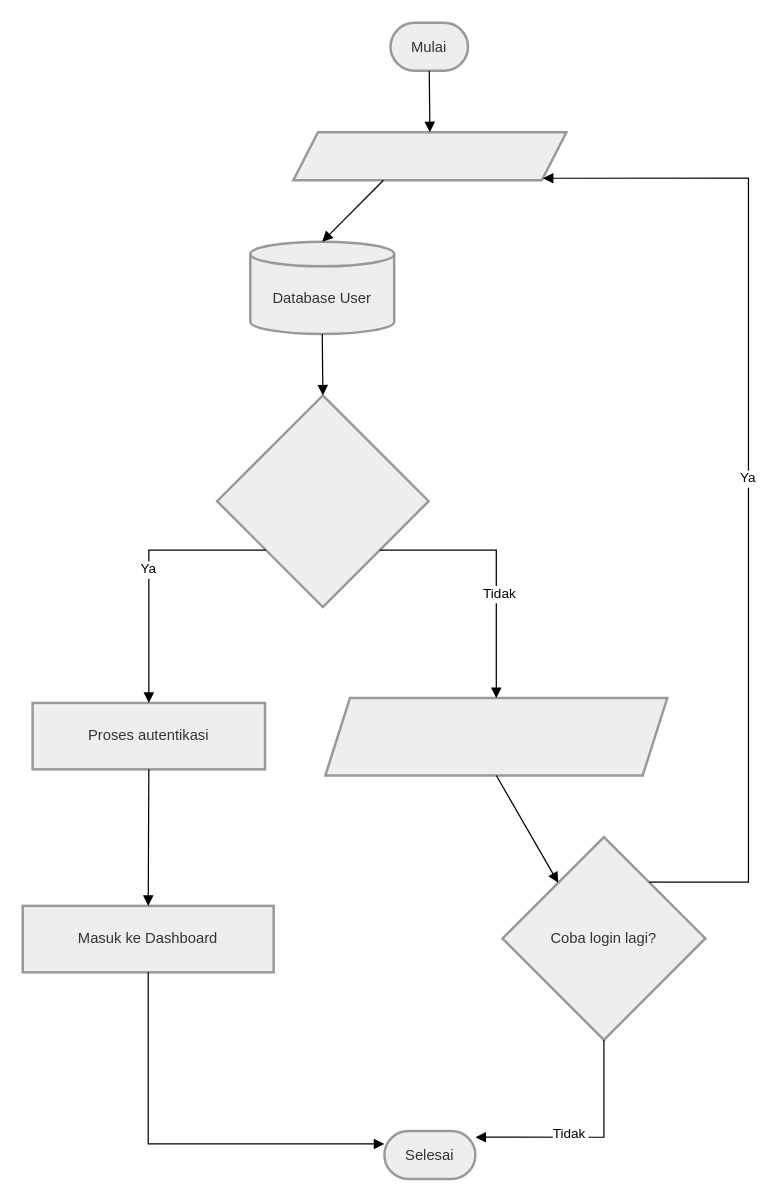
This 780x1200 diagram has some shape labels left out. Here are the shapes that lost their labels. From the top down, the box of each, then its label:
(292, 130, 567, 181): Input Email & Password
(215, 394, 429, 608): Data login valid?
(323, 696, 668, 776): Tampilkan pesan "Email atau password salah"
